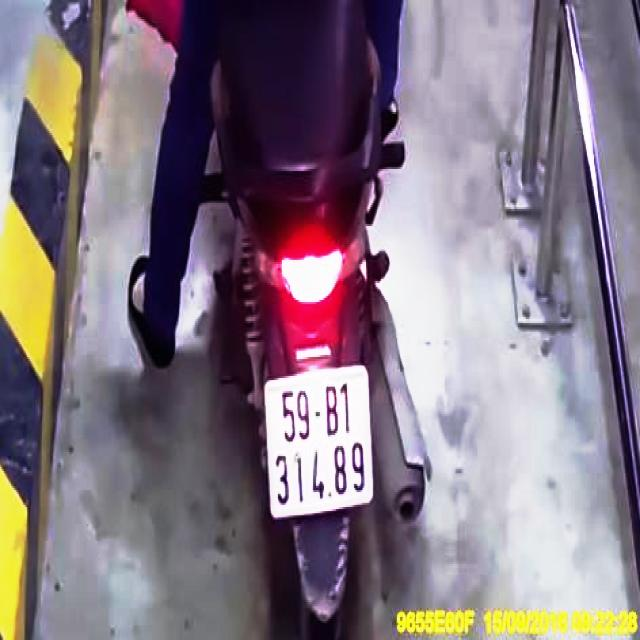license_plate: (269, 365, 376, 517)
